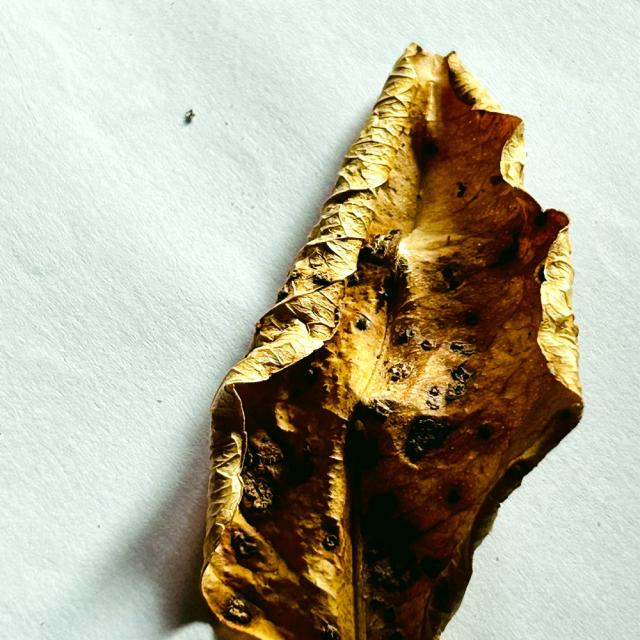DryLeaf_Lemon: (201, 44, 583, 639)
